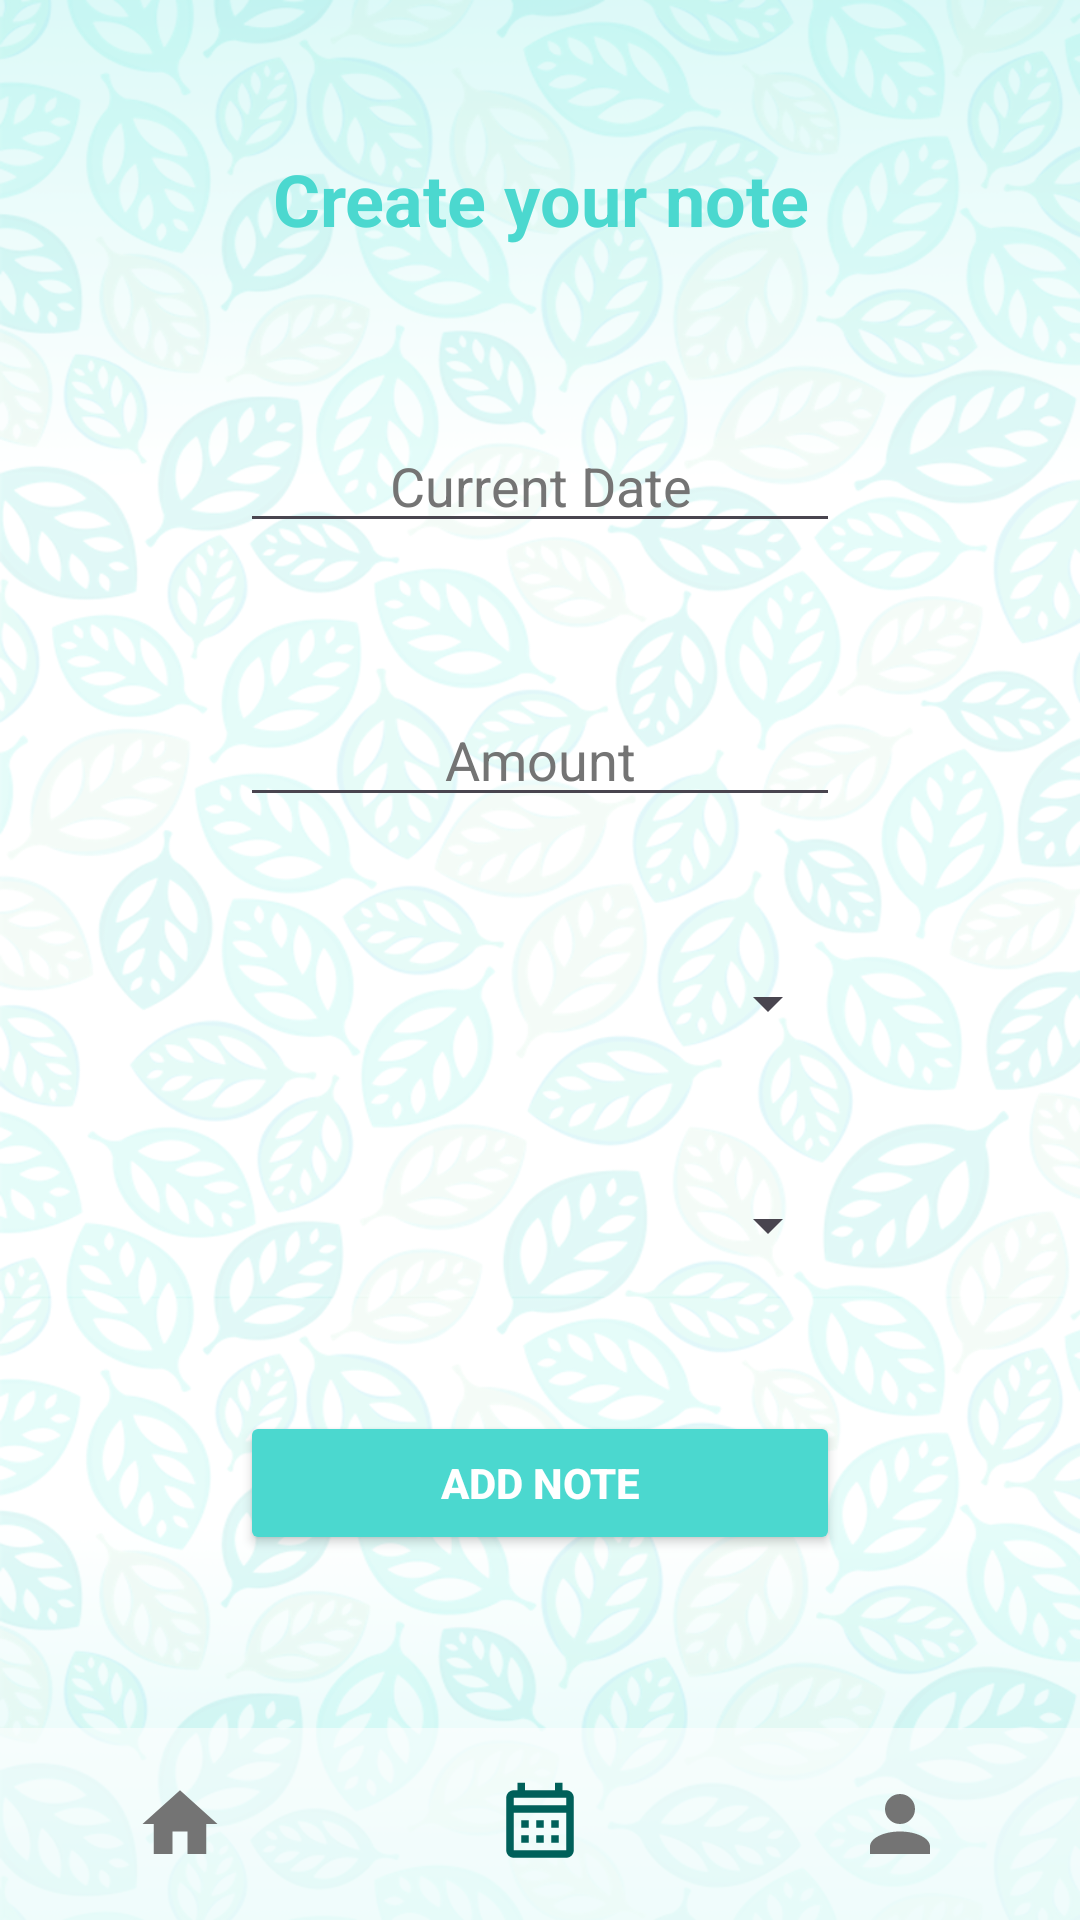

Screen size 1080 x 1920. Icon name, then its box in pixels as (x1, y1, x2, y2):
account: (870, 1794, 930, 1854)
calendar month: (506, 1782, 574, 1858)
home: (143, 1790, 217, 1854)
